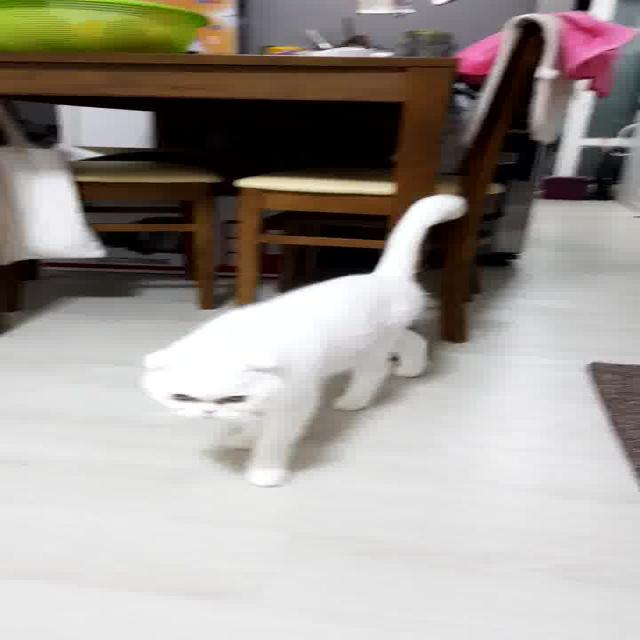cat: (130, 190, 473, 493)
